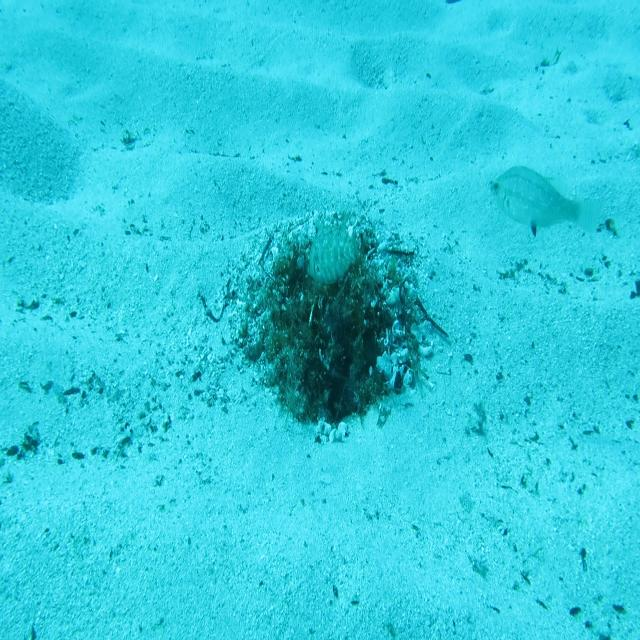NIP_CORE: (304, 213, 364, 287)
core_nest: (300, 264, 352, 293)
female: (487, 163, 604, 239)
nest: (220, 209, 440, 455)
